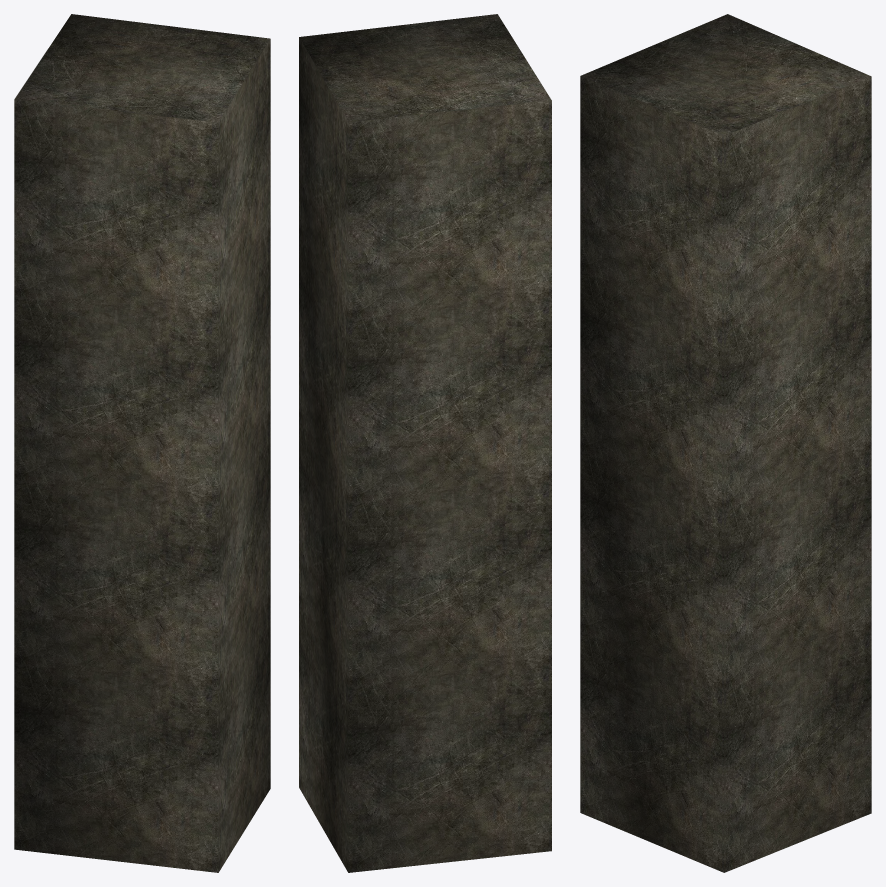
Rendered from TPL_EVT_ELEVATOR_01.glb.
The picture shows the model from 3 angles, left to right: view 1: azimuth 30°, elevation 25°; view 2: azimuth 150°, elevation 25°; view 3: azimuth 270°, elevation 25°; orthographic projection.
Parts seen in each view (by area): view 1: Mesh; view 2: Mesh; view 3: Mesh.
Part boxes in pixels (x1,y1,x2,y2): Mesh: [14, 14, 270, 872]; Mesh: [299, 14, 551, 872]; Mesh: [580, 14, 871, 872].
Bounding box in the file's own units: 7.25 × 20.43 × 7.31.
Materials: 1 (1 with a texture image).
